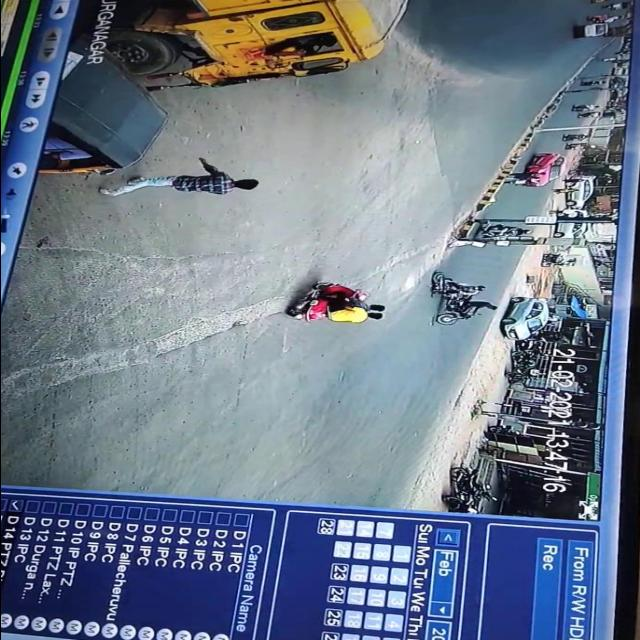accident: (421, 267, 499, 329)
